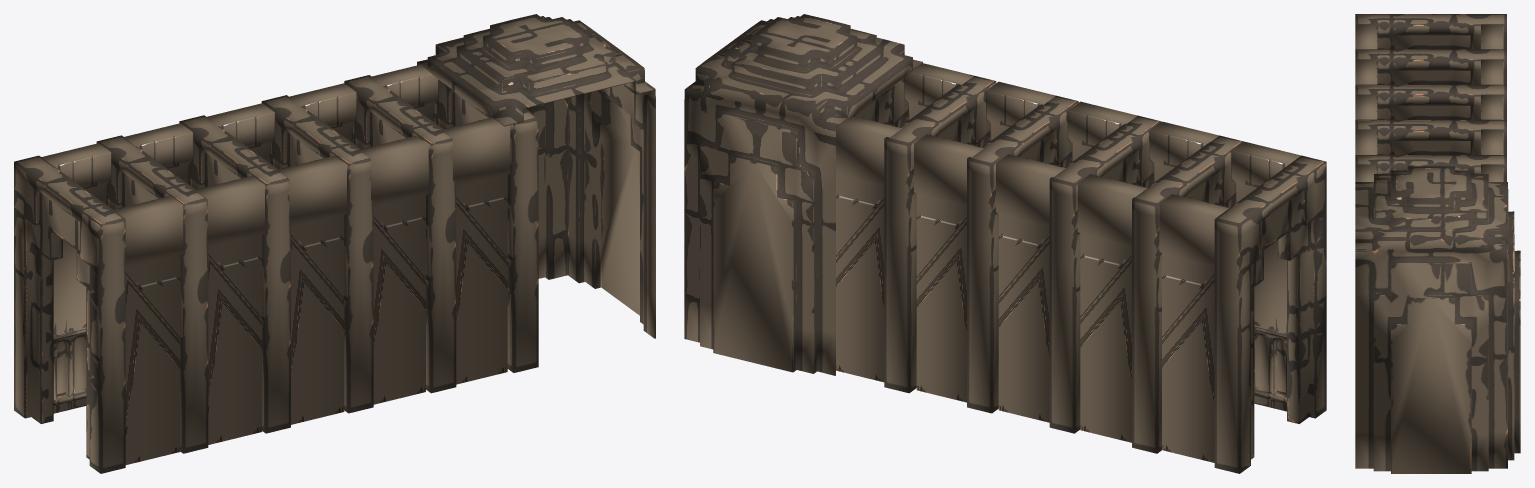
The model's file is corredor.fbx.
3 renders of one model, left to right at view 1: azimuth 30°, elevation 25°; view 2: azimuth 150°, elevation 25°; view 3: azimuth 270°, elevation 25°, orthographic. The views are drawn at different scales.
Parts seen in each view (by area): view 1: arch.021, wall.019, corner.006, wall.002; view 2: arch.021, wall.002, corner.006, wall.019; view 3: corner.006, arch.021, wall.019, wall.002.
Boxes of the visible parts, <box> form: arch.021: <box>14,75,538,473</box>; wall.019: <box>113,117,510,464</box>; corner.006: <box>417,14,655,338</box>; wall.002: <box>41,65,438,413</box>; arch.021: <box>852,75,1326,473</box>; wall.002: <box>836,116,1229,462</box>; corner.006: <box>684,14,922,375</box>; wall.019: <box>904,63,1300,411</box>; corner.006: <box>1355,166,1520,473</box>; arch.021: <box>1355,14,1506,181</box>; wall.019: <box>1355,24,1377,181</box>; wall.002: <box>1481,24,1503,181</box>.
Size of the model in its own units: 4534 by 2210 by 1308.
